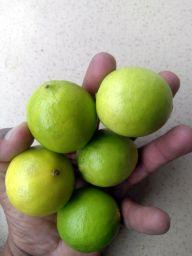lemon: (94, 64, 176, 139), (24, 78, 101, 156), (4, 144, 79, 218), (54, 186, 125, 254), (75, 125, 141, 190)
